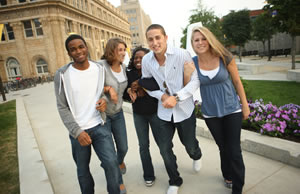Person: (53, 36, 119, 184), (185, 27, 247, 181), (144, 20, 194, 175)
